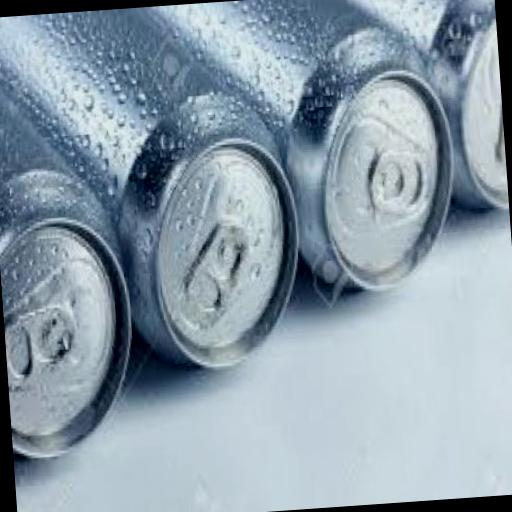metal: (0, 0, 303, 381), (151, 0, 458, 309), (0, 57, 140, 460), (343, 0, 507, 219)
